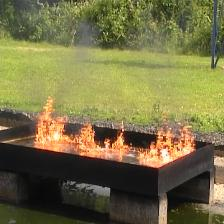fire: (32, 110, 194, 157)
